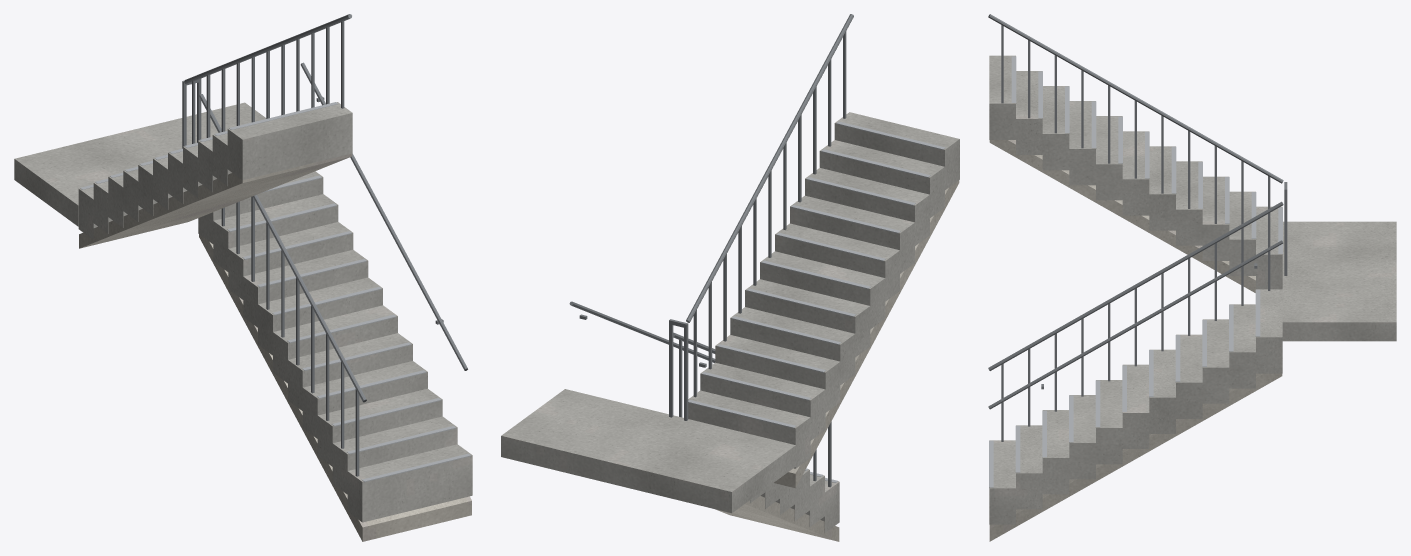
File: stair_ground.glb
The picture shows the model from 3 angles, left to right: view 1: azimuth 30°, elevation 25°; view 2: azimuth 150°, elevation 25°; view 3: azimuth 270°, elevation 25°; orthographic projection. The views are drawn at different scales.
Visible parts, largest first — view 1: stair_ground_conc_s, stair_ground_steel_d, stair_ground_concrete, stair_ground_steel; view 2: stair_ground_conc_s, stair_ground_steel_d, stair_ground_steel, stair_ground_concrete; view 3: stair_ground_conc_s, stair_ground_steel_d, stair_ground_concrete, stair_ground_steel.
Part boxes in pixels (x1,y1,x2,y2): stair_ground_conc_s: (14,102,472,522); stair_ground_steel_d: (182,14,467,476); stair_ground_concrete: (79,153,471,541); stair_ground_steel: (80,102,470,482); stair_ground_conc_s: (501,112,959,532); stair_ground_steel_d: (569,14,853,487); stair_ground_steel: (688,121,945,482); stair_ground_concrete: (715,180,959,541); stair_ground_conc_s: (989,55,1396,524); stair_ground_steel_d: (988,14,1287,441); stair_ground_concrete: (989,140,1282,541); stair_ground_steel: (989,56,1282,487).
Size of the model in its own units: 2.5 by 5.5 by 4.29.
4 materials, 2 textured.
